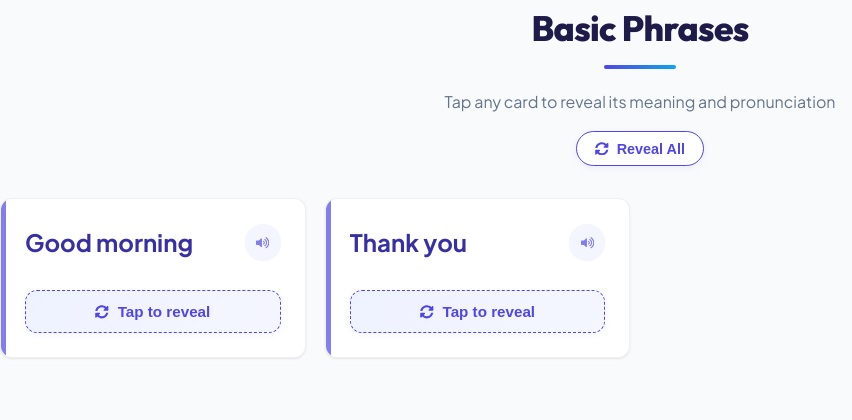
it: Phrases Component - Intuitive Reveal & Study Mode › reveals translation and pronunciation when tapping "Tap to reveal", and allows hiding it again
Click the button with aria-label "reveal translation for".
click(153, 312)  # box [25, 290, 281, 333]
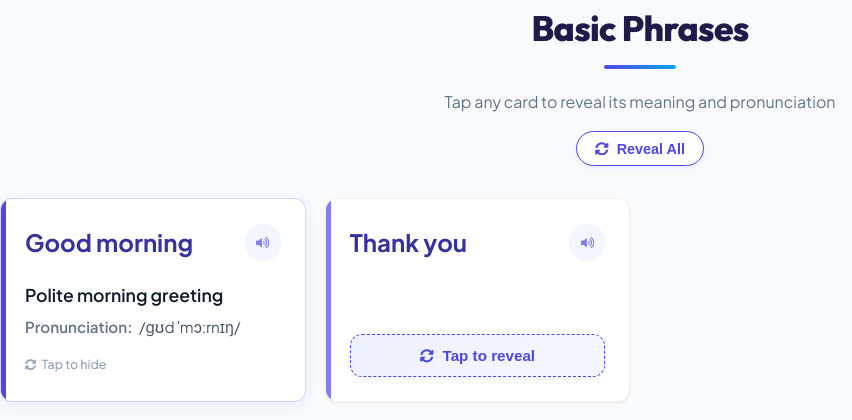
Check: the text "Polite morning greeting" is shown, box [25, 284, 223, 306]
Check: the text "Pronunciation:" is shown, box [25, 316, 132, 335]
Check: the text "Tap to hide" is shown, box [42, 354, 106, 374]
// Tap to hide
Click the button with aria-label "hide translation for Good morning".
click(133, 328)  # box [25, 284, 240, 371]
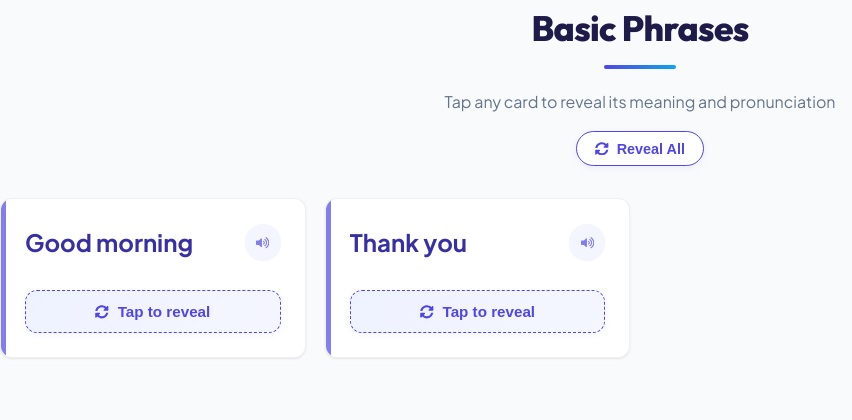
Check: the button "Polite morning greeting" is gone
Check: the button with aria-label "reveal translation for" is shown, box [25, 290, 281, 333]
